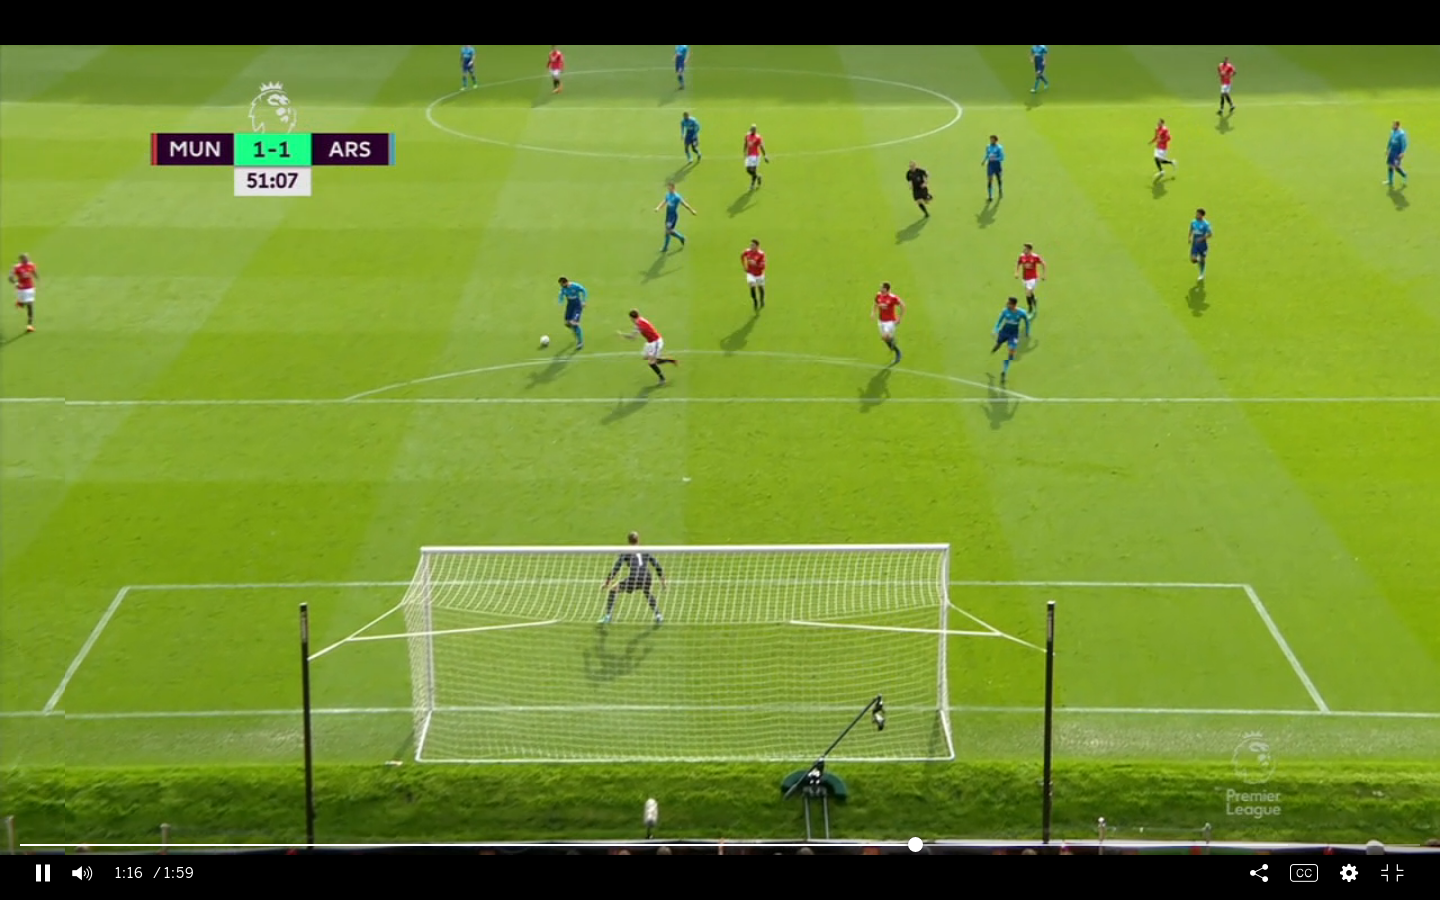referee: (904, 152, 938, 217)
soccer player: (595, 532, 675, 631), (618, 303, 685, 391), (867, 277, 913, 366), (653, 182, 695, 262), (733, 234, 775, 312), (8, 256, 44, 332), (559, 272, 592, 352), (996, 294, 1027, 380), (1145, 117, 1179, 188), (1184, 206, 1213, 288), (1015, 240, 1045, 317), (979, 131, 1007, 211), (1022, 43, 1061, 96), (1381, 120, 1410, 191), (1212, 54, 1241, 123), (741, 125, 768, 192), (675, 111, 707, 165), (450, 46, 485, 86), (672, 43, 690, 92), (547, 45, 565, 94)
soccerball: (536, 332, 556, 354)
